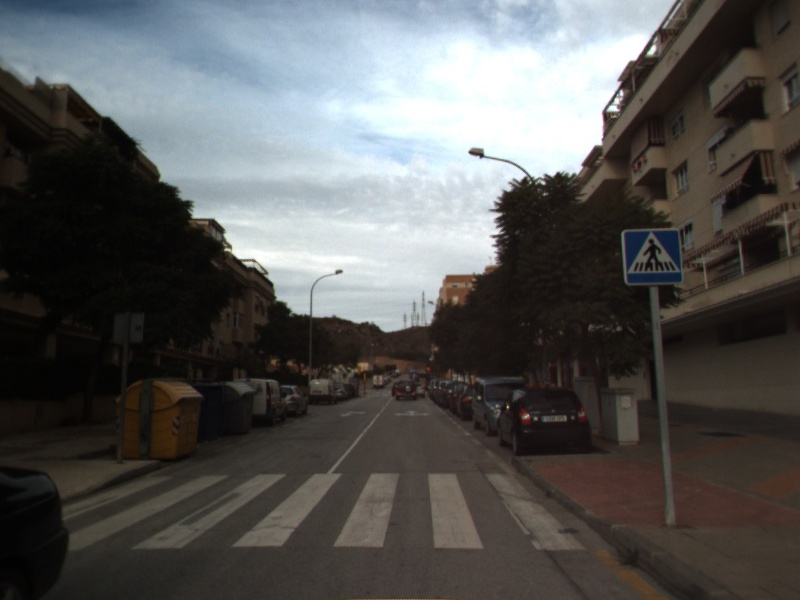STRAIGHT_LEFT_RIGHT: (392, 408, 432, 419)
